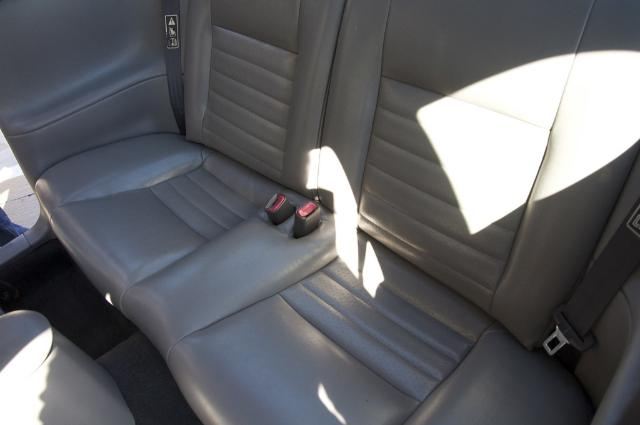Seatbelt: (534, 200, 640, 366), (162, 0, 184, 136)
